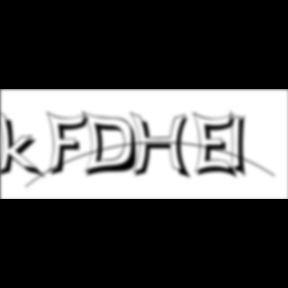D: (80, 110, 144, 180)
E: (192, 110, 242, 182)
F: (46, 110, 94, 178)
H: (130, 112, 196, 182)
k: (0, 108, 48, 181)
l: (230, 108, 254, 182)
